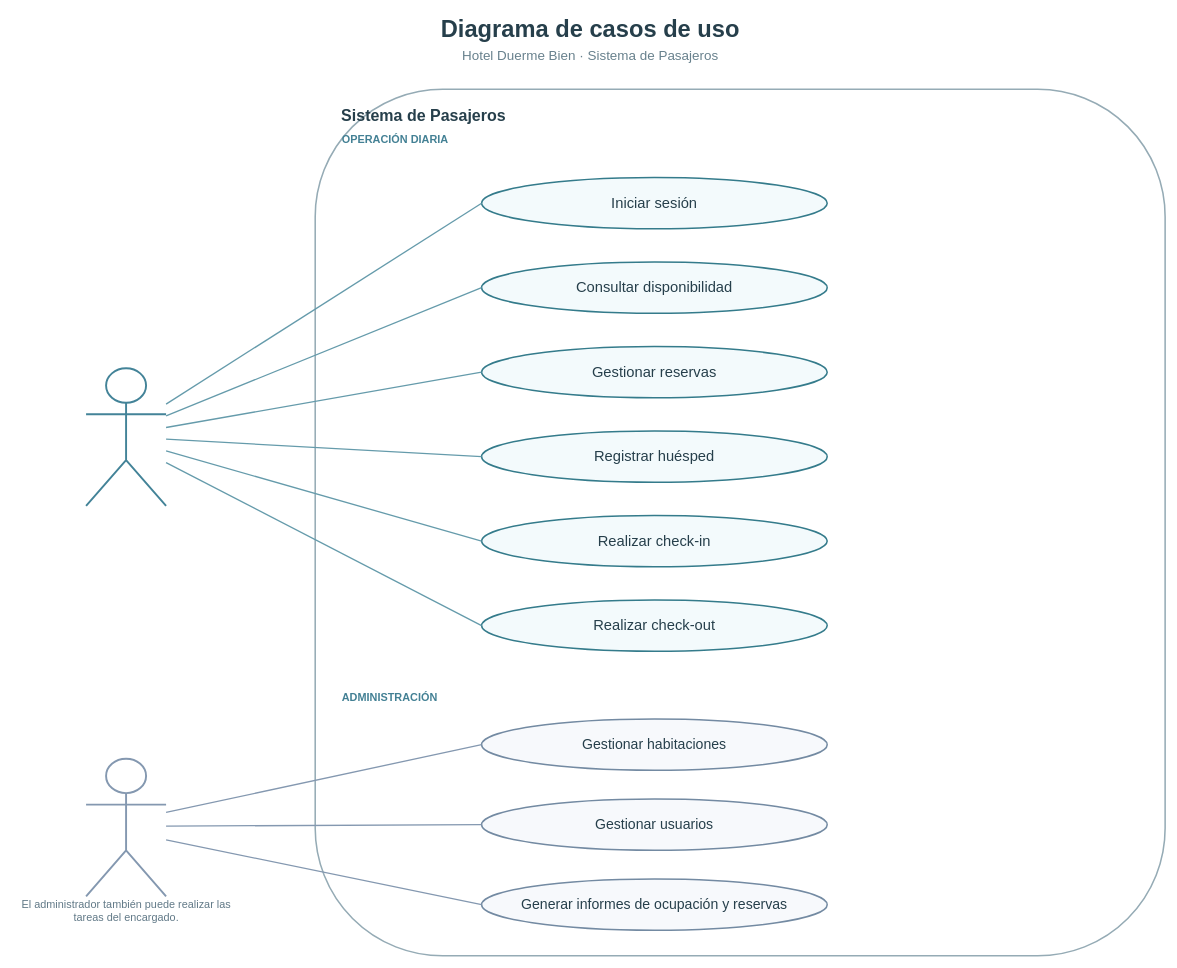
Some shapes in this 1177 by 968 pixel diagram are drawn without their labels. The box of each missing label's shape, as (x1, y1, x2, y2) in pixels:
Administrador: (85, 757, 167, 897)
Encargado: (85, 367, 167, 507)
